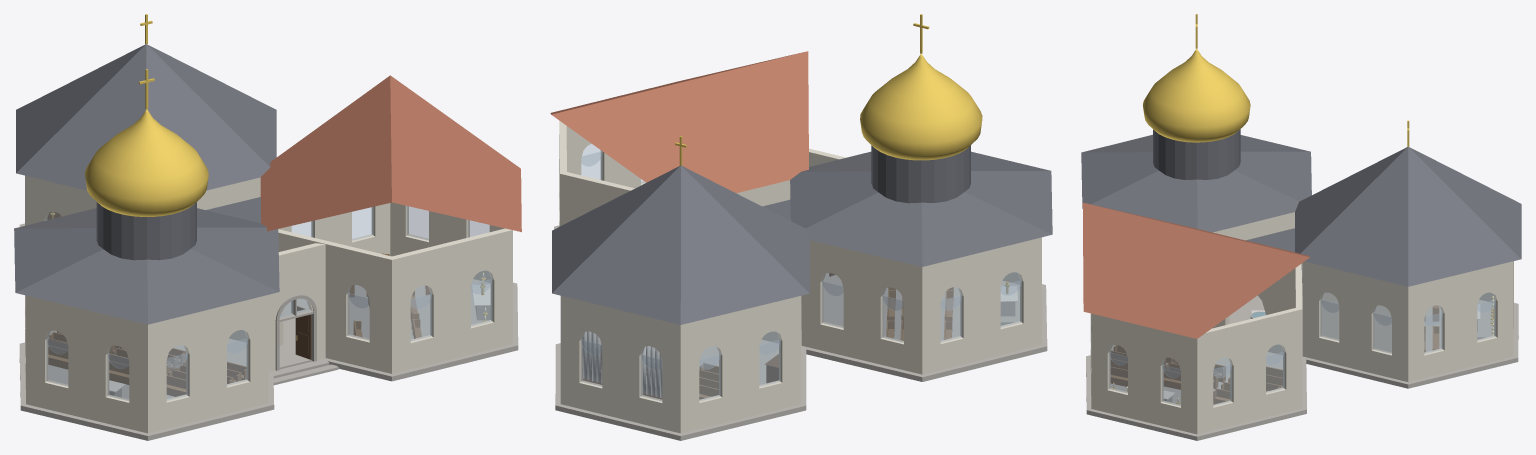
File: churchv5.glb
3 views of the same model, side by side, from view 1: azimuth 30°, elevation 25°; view 2: azimuth 150°, elevation 25°; view 3: azimuth 270°, elevation 25° (orthographic). The views are drawn at different scales.
Parts seen in each view (by area): view 1: Roof_ang, Walls_anglican, Roof_orth, Walls_orthodox, Roof_rom, Glass, Dome, Floor, Frontwall, Walls_roman, Pews, Doorframe (+3 smaller); view 2: Roof_rom, Roof_orth, Walls_roman, Roof_ang, Walls_orthodox, Glass, Dome, Floor, Walls_anglican, Organ_pipes, Pews; view 3: Roof_rom, Walls_anglican, Roof_ang, Walls_roman, Roof_orth, Floor, Dome, Glass, Pews, Walls_orthodox, Roof_mid.
Part boxes in pixels (x1,y1,x2,y2): Roof_ang: [260, 75, 521, 232]; Walls_anglican: [278, 202, 512, 373]; Roof_orth: [14, 202, 279, 324]; Walls_orthodox: [25, 295, 268, 433]; Roof_rom: [16, 44, 276, 190]; Glass: [45, 206, 492, 400]; Dome: [85, 109, 208, 216]; Floor: [19, 223, 518, 440]; Frontwall: [269, 243, 325, 371]; Walls_roman: [25, 175, 260, 225]; Pews: [48, 252, 430, 396]; Doorframe: [275, 294, 316, 370]; Roof_rom: [552, 165, 809, 324]; Roof_orth: [790, 145, 1052, 266]; Walls_roman: [560, 296, 800, 433]; Roof_ang: [550, 51, 808, 193]; Walls_orthodox: [801, 237, 1041, 374]; Glass: [581, 144, 1021, 400]; Dome: [860, 54, 982, 160]; Floor: [554, 225, 1047, 440]; Walls_anglican: [559, 121, 790, 226]; Organ_pipes: [583, 331, 662, 397]; Pews: [582, 287, 953, 399]; Roof_rom: [1295, 147, 1521, 286]; Walls_anglican: [1090, 264, 1302, 434]; Roof_ang: [1082, 202, 1309, 338]; Walls_roman: [1302, 261, 1513, 381]; Roof_orth: [1081, 129, 1311, 232]; Floor: [1086, 295, 1518, 440]; Dome: [1143, 48, 1250, 142]; Glass: [1109, 293, 1495, 405]; Pews: [1110, 305, 1439, 404]; Walls_orthodox: [1213, 212, 1302, 322]; Roof_mid: [1246, 228, 1302, 282].
Size of what is drawn, in the model's own units: 32.55 by 19.7 by 28.18.
